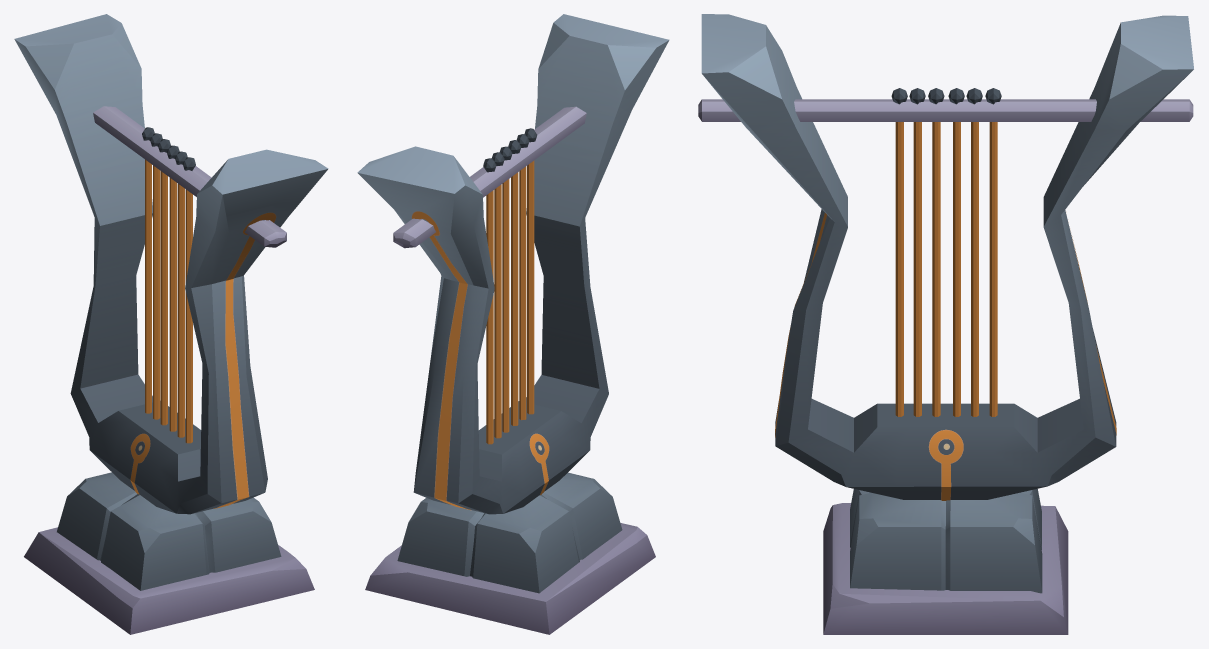
Rendered from MODEL_Harp.fbx.
The picture shows the model from 3 angles, left to right: view 1: azimuth 30°, elevation 25°; view 2: azimuth 150°, elevation 25°; view 3: azimuth 270°, elevation 25°; orthographic projection. The views are drawn at different scales.
Parts seen in each view (by area): view 1: Model_Harp; view 2: Model_Harp; view 3: Model_Harp.
Part boxes in pixels (box(x1,y1,x2,y2)): Model_Harp: box(14, 14, 328, 634); Model_Harp: box(357, 14, 669, 634); Model_Harp: box(698, 14, 1193, 634).
Bounding box in the file's own units: 63.15 × 156 × 128.
